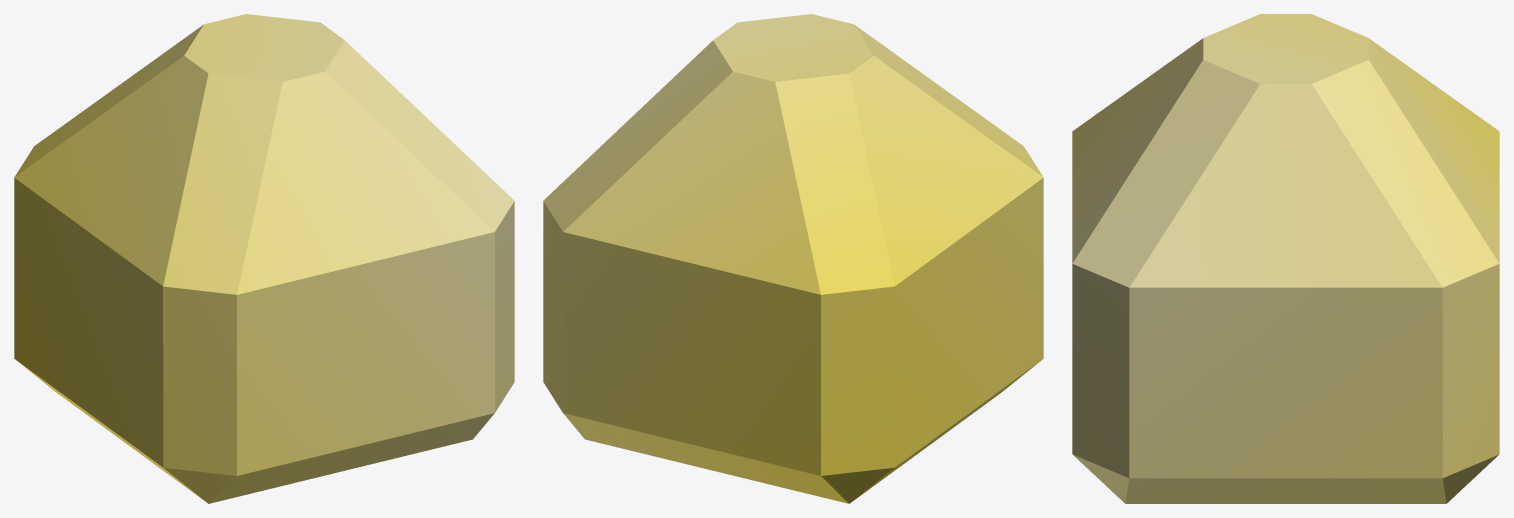
Rendered from LimeStone.fbx.
3 renders of one model, left to right at view 1: azimuth 30°, elevation 25°; view 2: azimuth 150°, elevation 25°; view 3: azimuth 270°, elevation 25°, orthographic. The views are drawn at different scales.
Visible parts, largest first — view 1: LIMESTONE.001; view 2: LIMESTONE.001; view 3: LIMESTONE.001.
Part boxes in pixels (x1,y1,x2,y2): LIMESTONE.001: [14, 14, 514, 503]; LIMESTONE.001: [543, 14, 1043, 503]; LIMESTONE.001: [1072, 14, 1499, 503].
Bounding box in the file's own units: 156 × 156 × 156.
1 material, 1 textured.
